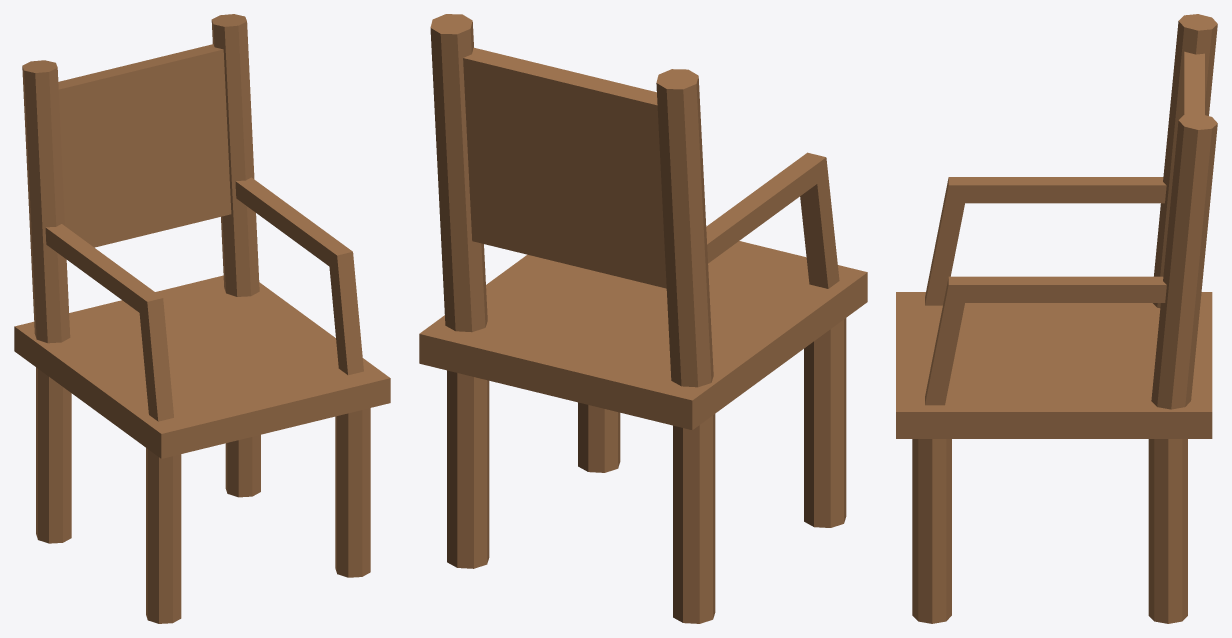
The model's file is 07 Chair.FBX.
3 renders of one model, left to right at view 1: azimuth 30°, elevation 25°; view 2: azimuth 150°, elevation 25°; view 3: azimuth 270°, elevation 25°, orthographic. The views are drawn at different scales.
Visible parts, largest first — view 1: Chair; view 2: Chair; view 3: Chair.
Boxes of the visible parts, x1,y1,x2,y2 form: Chair: (14, 14, 390, 623); Chair: (419, 14, 867, 623); Chair: (896, 14, 1217, 623).
Bounding box in the file's own units: 288 × 554 × 326.
